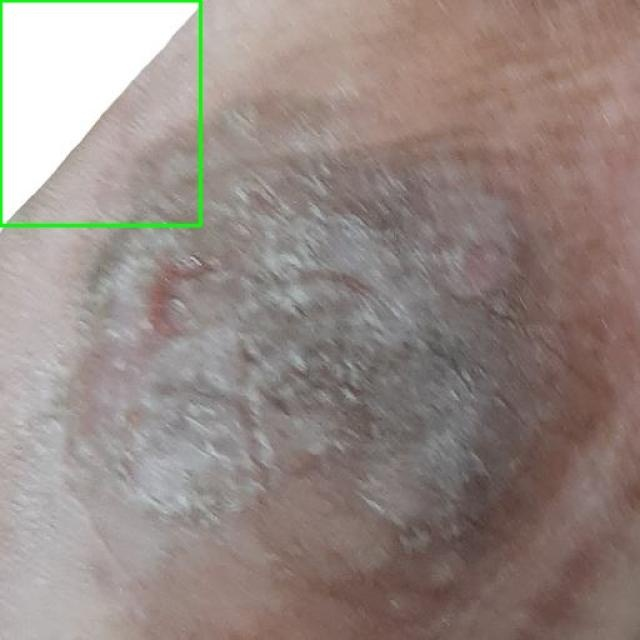Contact Dermatitis: (0, 0, 200, 225)
